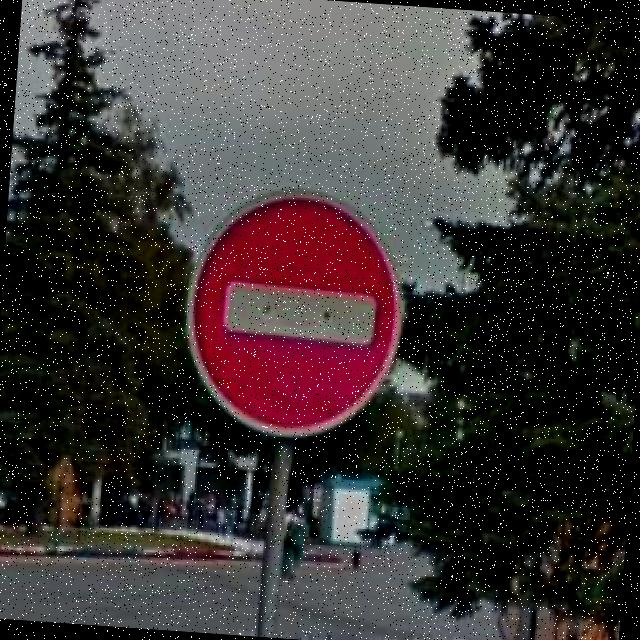Zakaz wjazdu: (171, 175, 417, 452)
